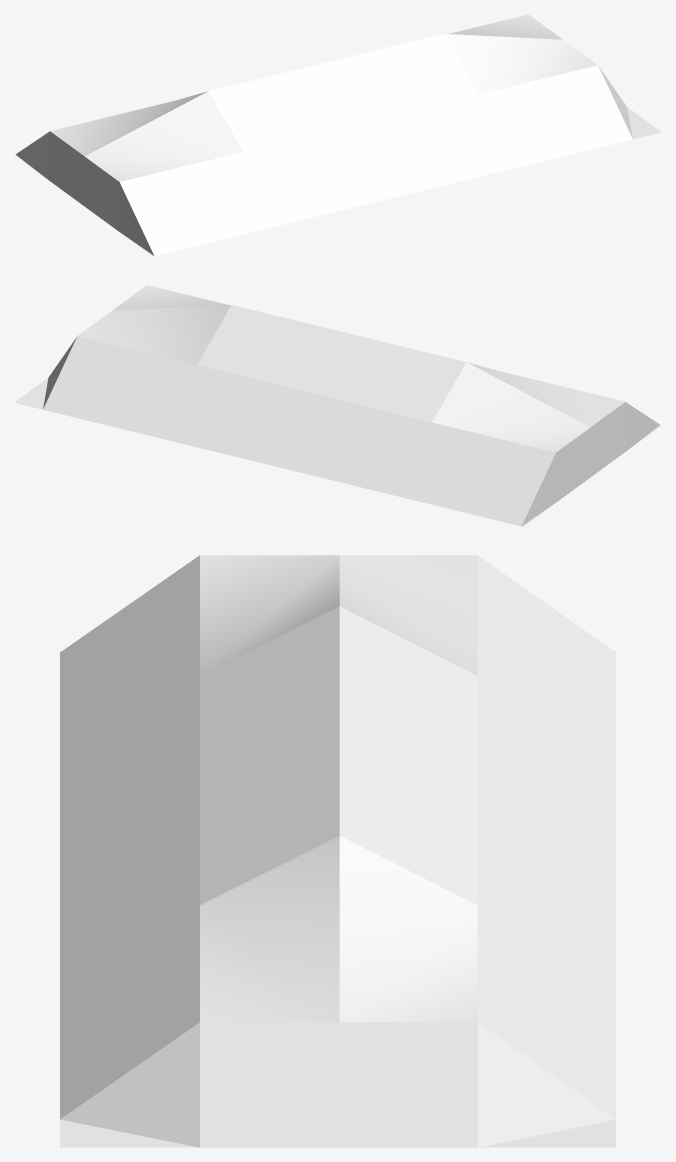
Rendered from rock.obj.
The picture shows the model from 3 angles, top to bottom: view 1: azimuth 30°, elevation 25°; view 2: azimuth 150°, elevation 25°; view 3: azimuth 270°, elevation 25°; orthographic projection. The views are drawn at different scales.
Visible parts, largest first — view 1: 平面; view 2: 平面; view 3: 平面.
Part boxes in pixels (x1,y1,x2,y2): 平面: (14,14,661,256); 平面: (14,285,661,526); 平面: (60,555,615,1147).
Size of the model in its own units: 1.06 by 0.167 by 0.503.
Materials: 1 (1 with a texture image).
